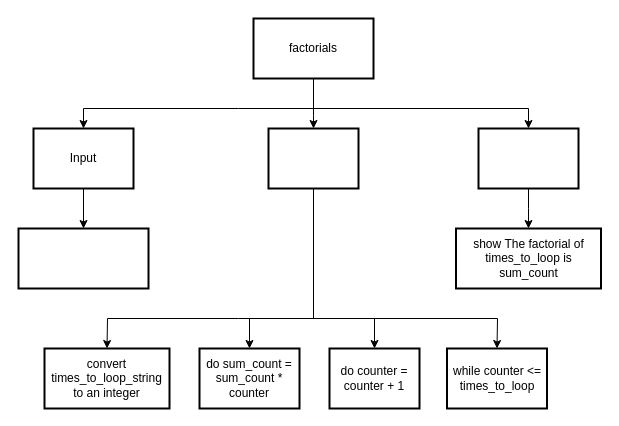
This 619x426 diagram has some shape labels left out. The shapes that lost their labels are listed below. From the top down, each one's centre as x and y in pixels, then its label:
the point at 313,158: Process
the point at 528,158: Output
the point at 83,258: get times_to_loop_string
